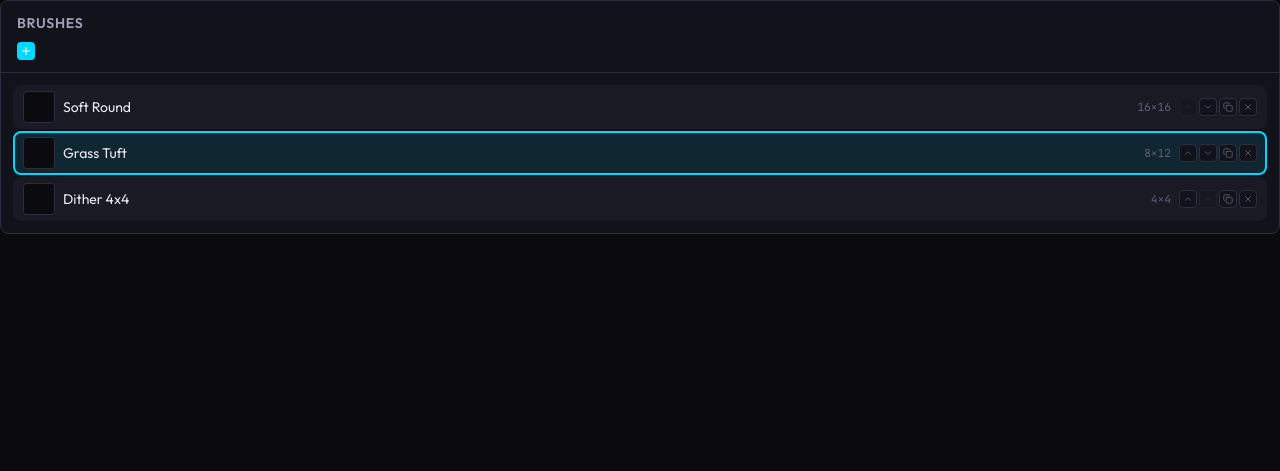
Scenario: BrushList — the create form › typing after an error clears it
Click the button named "New brush": (26, 51) [17,42,35,60]
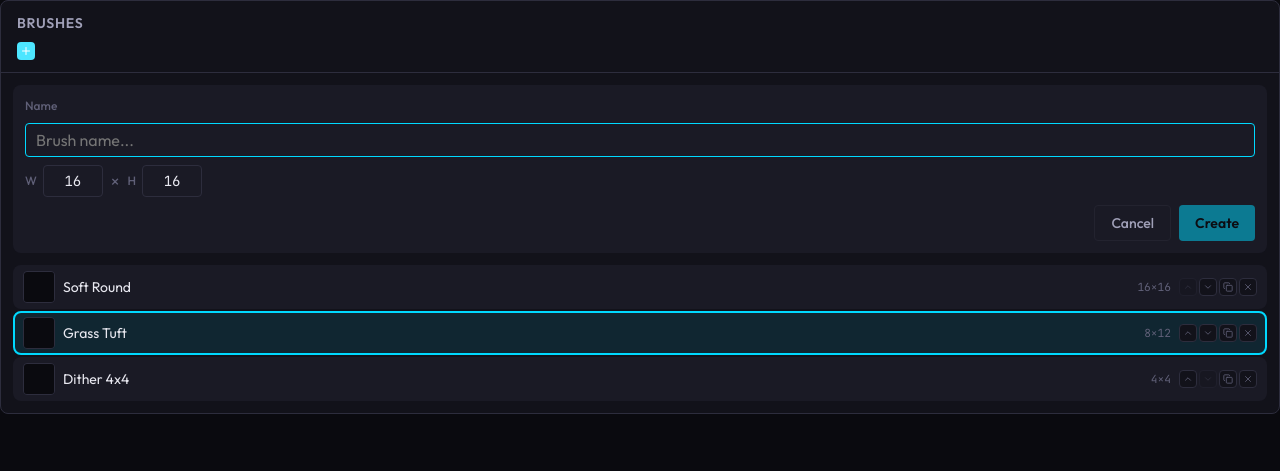
In the field labelled "Name": (640, 140) [25,123,1255,157], type "Grass Tuft"
Then press Enter
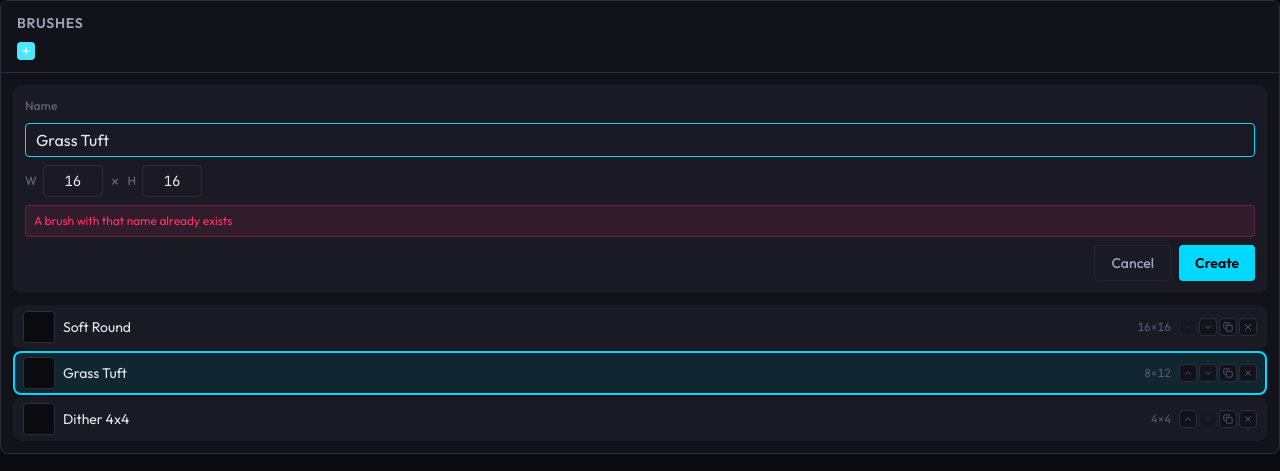
Expected: the message "A brush with that name already exists" is shown, [25,205,1255,237]
In the field labelled "Name": (640, 140) [25,123,1255,157], type "!"
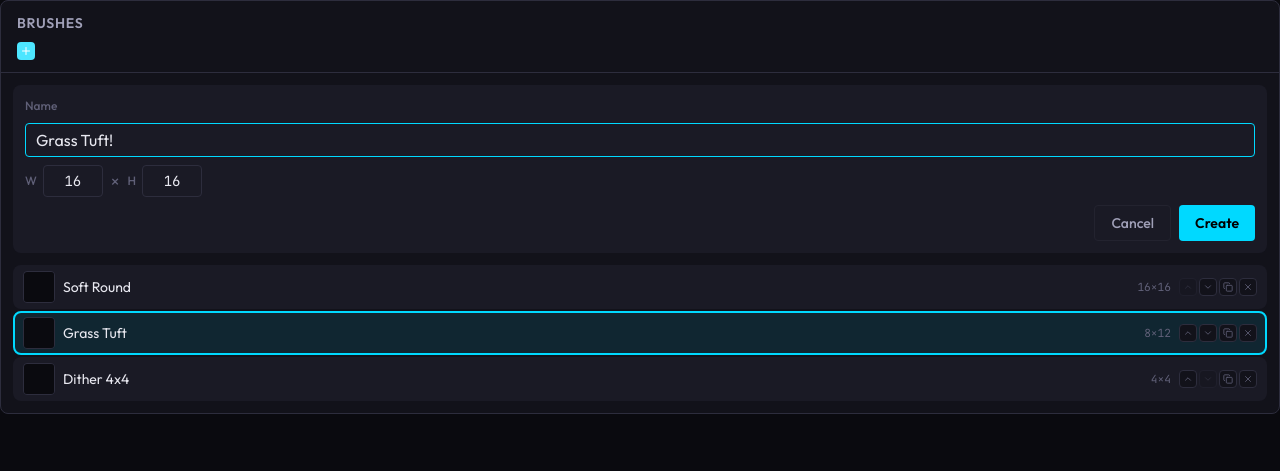
Expected: the message "A brush with that name already exists" is gone
